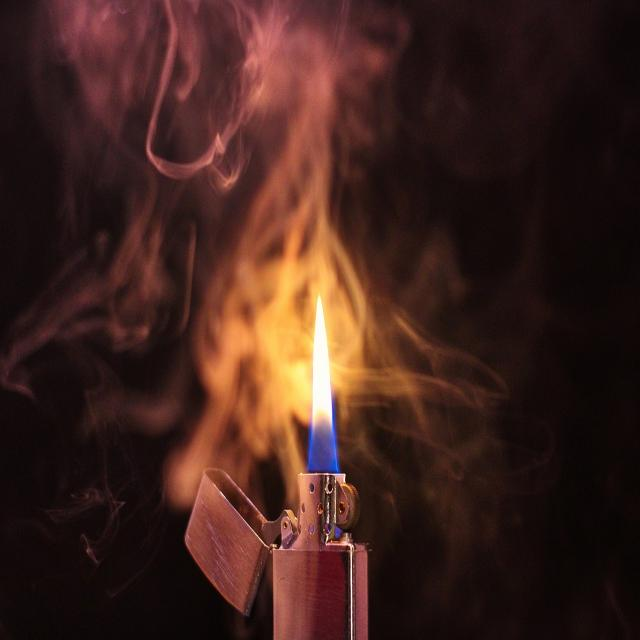fire: (287, 288, 349, 472)
smoke: (59, 12, 397, 269), (59, 285, 258, 455), (374, 270, 480, 484)
